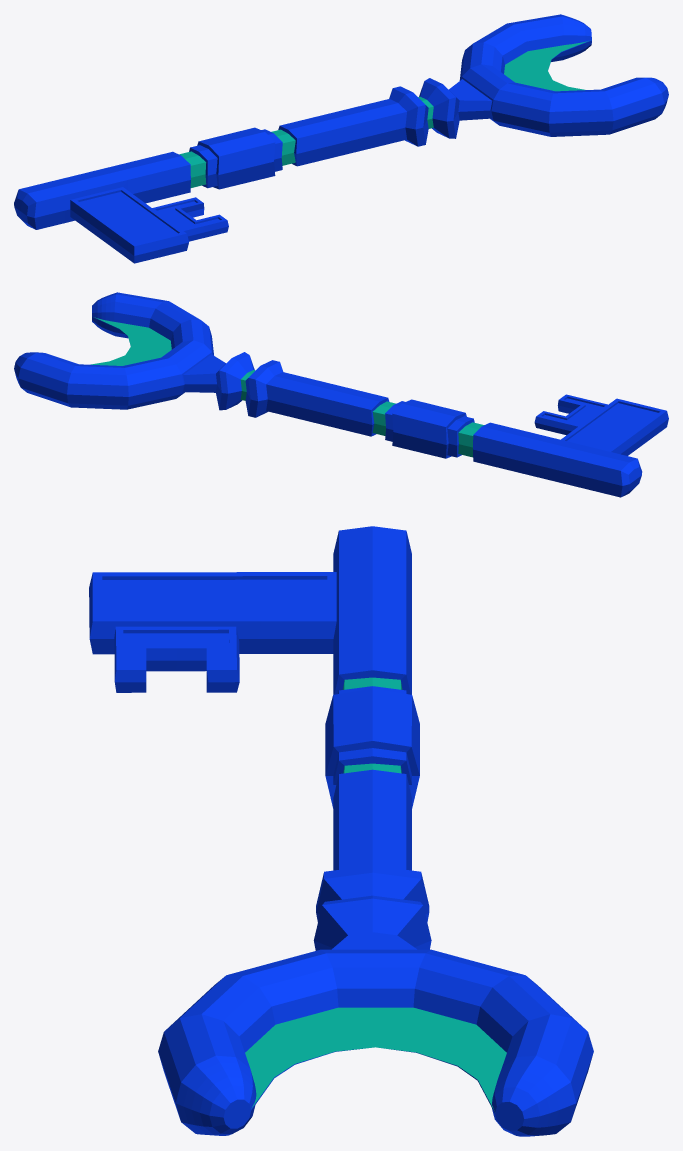
The model's file is SM_Key_Moon.fbx.
The picture shows the model from 3 angles, top to bottom: view 1: azimuth 30°, elevation 25°; view 2: azimuth 150°, elevation 25°; view 3: azimuth 270°, elevation 25°; orthographic projection. The views are drawn at different scales.
Parts seen in each view (by area): view 1: SM_Key_Moon; view 2: SM_Key_Moon; view 3: SM_Key_Moon.
Part boxes in pixels (x1,y1,x2,y2): SM_Key_Moon: (14,14,668,263); SM_Key_Moon: (14,292,668,497); SM_Key_Moon: (89,526,593,1136).
Size of the model in its own units: 34.17 by 2.6 by 12.82.
